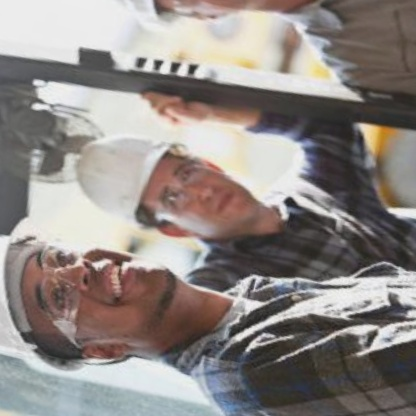white: (0, 182, 102, 389), (55, 109, 198, 245), (74, 0, 206, 42)
